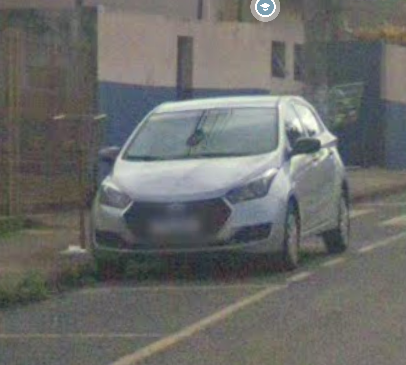car: (84, 89, 356, 277)
